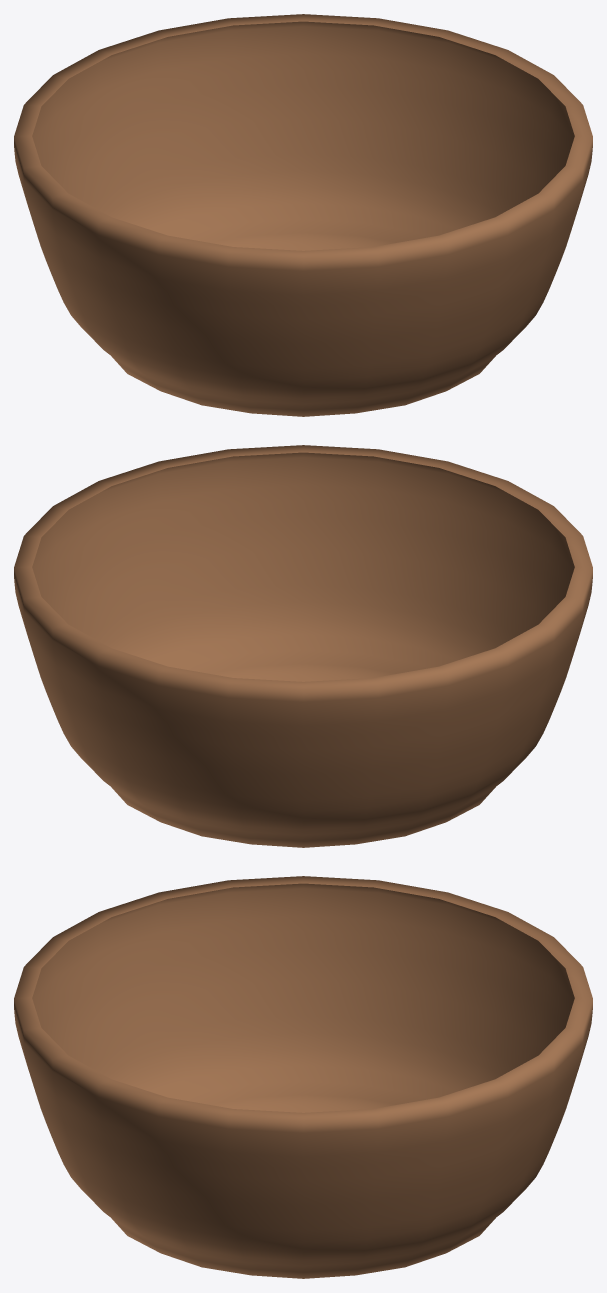
File: FlourPot.glb
3 views of the same model, one above another, from view 1: azimuth 30°, elevation 25°; view 2: azimuth 150°, elevation 25°; view 3: azimuth 270°, elevation 25° (orthographic).
Parts seen in each view (by area): view 1: Bowl; view 2: Bowl; view 3: Bowl.
Part boxes in pixels (left/top/right/bottom): Bowl: left=14, top=14, right=592, bottom=416; Bowl: left=14, top=445, right=592, bottom=847; Bowl: left=14, top=876, right=592, bottom=1278.
Bounding box in the file's own units: 0.5443 × 0.2122 × 0.5443.
